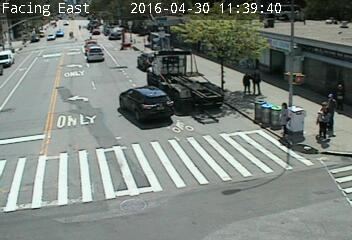neg: (211, 144, 251, 197), (183, 85, 215, 127), (120, 85, 149, 124), (198, 62, 227, 101), (270, 46, 299, 85), (34, 104, 60, 139), (64, 37, 86, 67), (4, 47, 25, 74), (113, 34, 129, 56)
pos: (308, 100, 340, 143), (269, 100, 300, 142), (233, 68, 256, 98), (248, 68, 270, 98)
